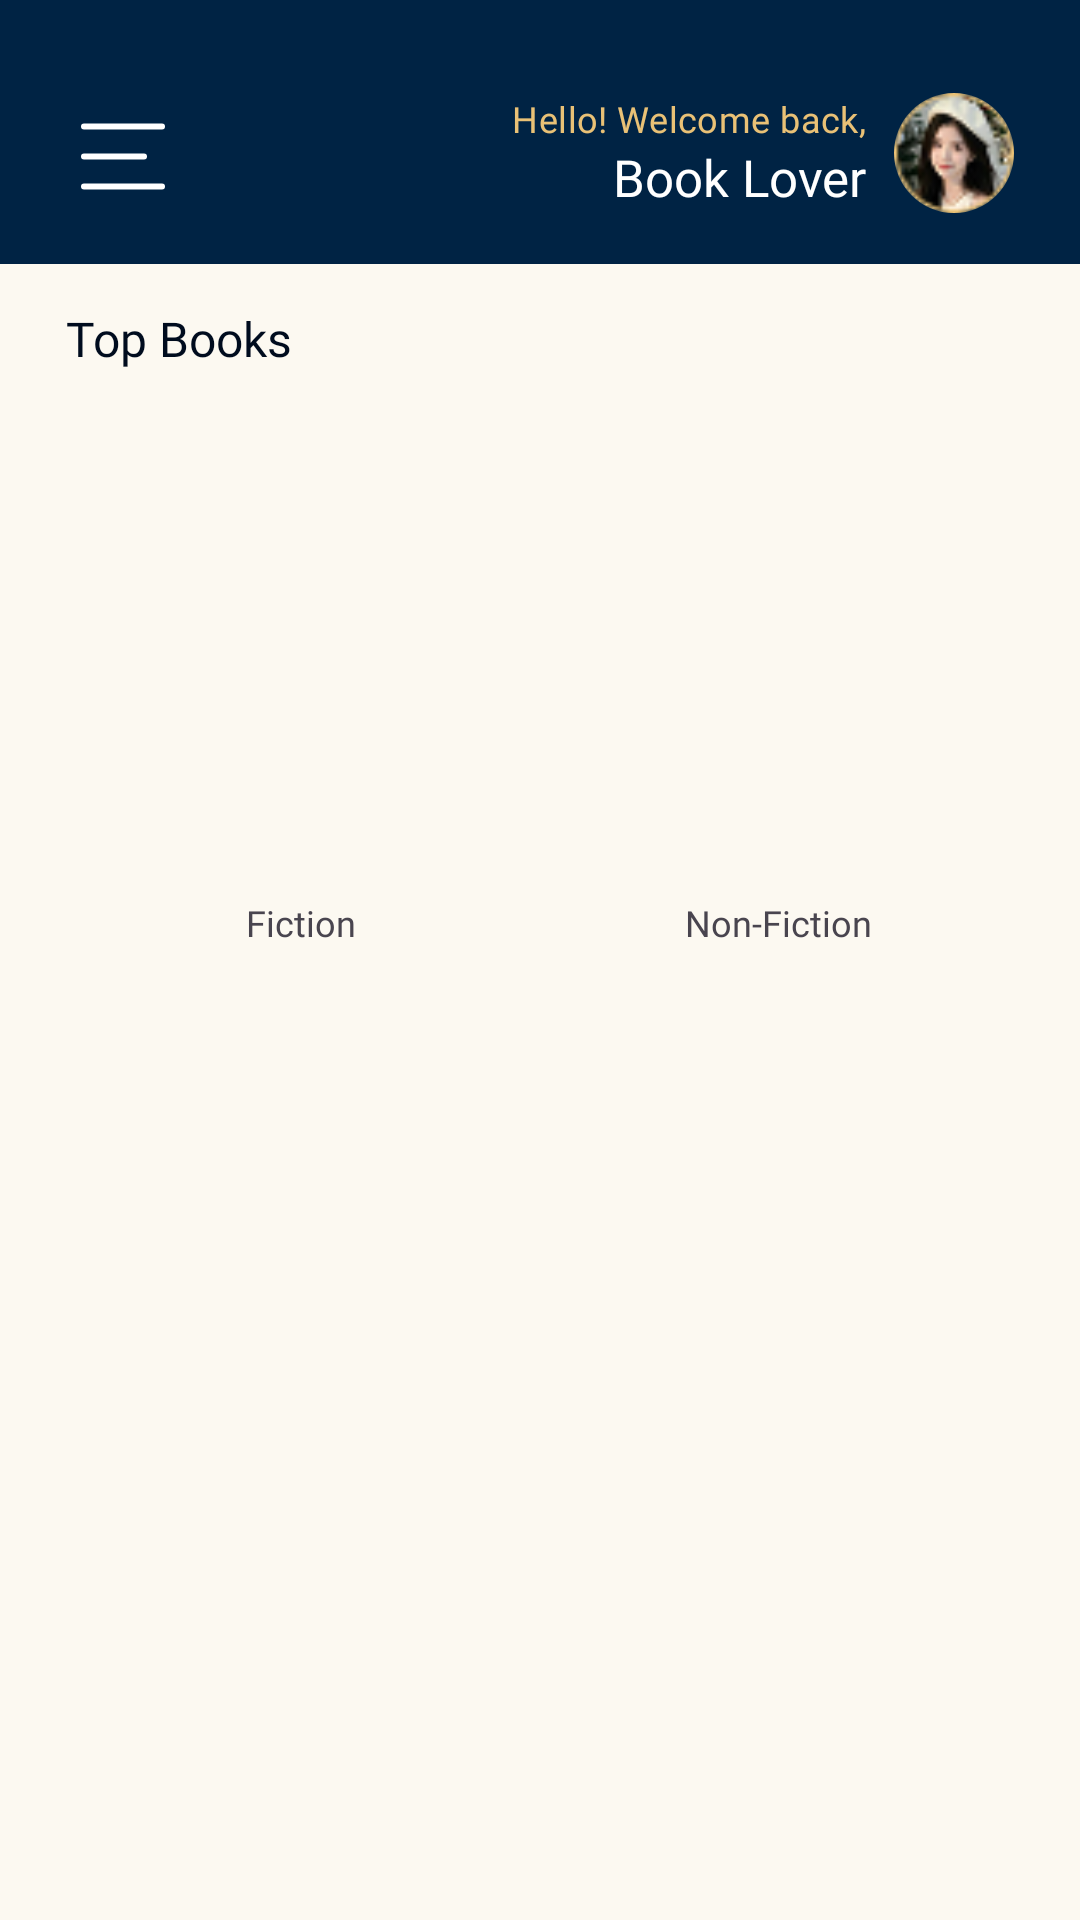

Icons on this 1080px×1920px Android screen, each with the point to tap as point (x, y):
Open menu: point (123, 156)
Profile: point (954, 153)
